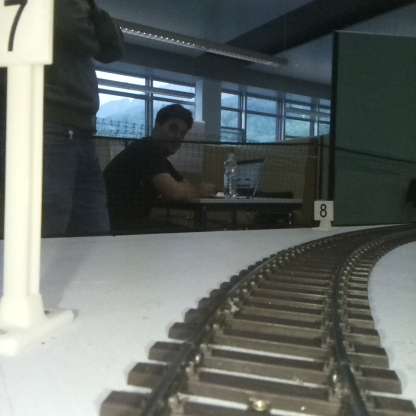white-info-7: (0, 0, 51, 340)
white-stop-8: (315, 201, 333, 229)
